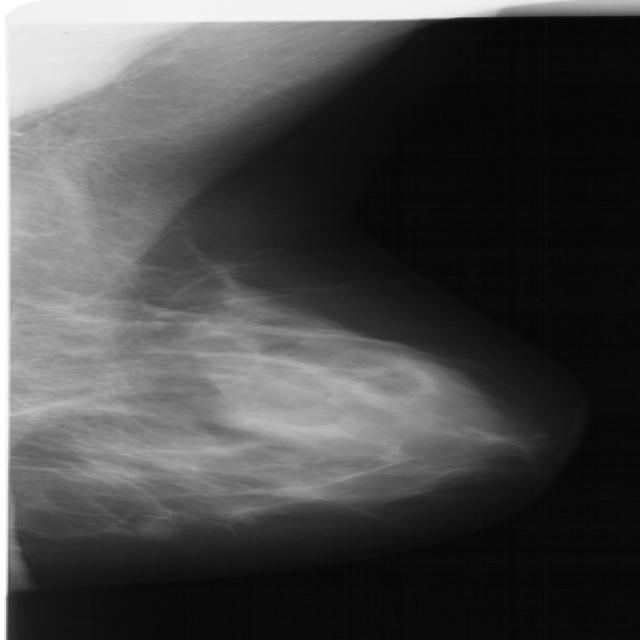tumour: (131, 516, 175, 537)
